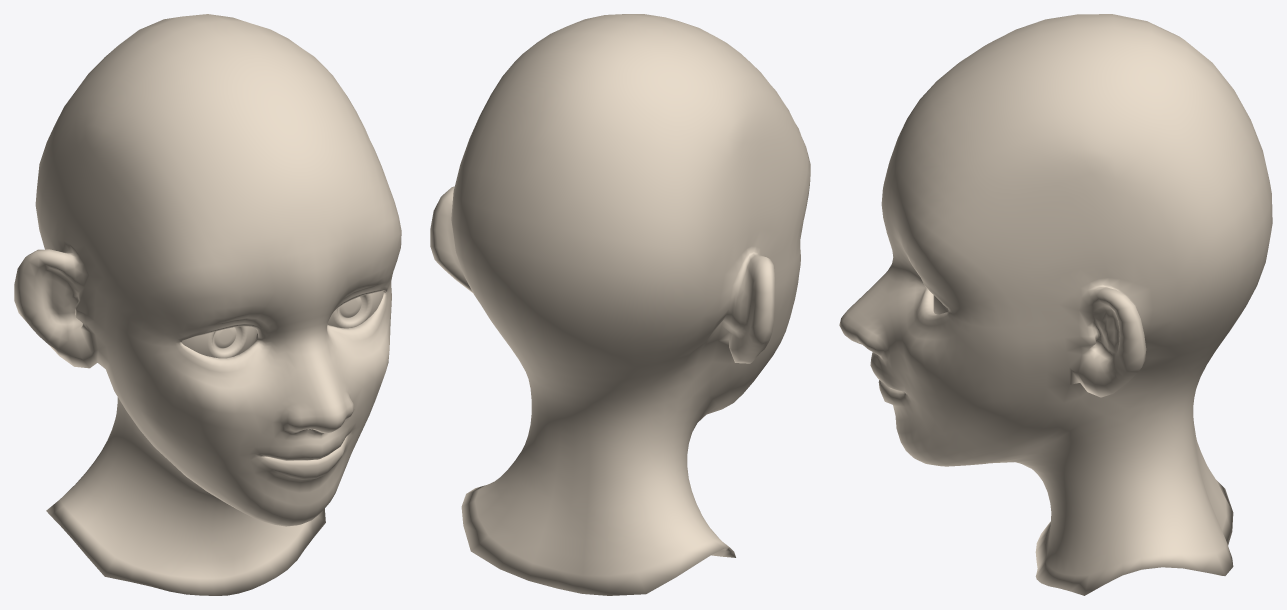
The model's file is head.glb.
3 renders of one model, left to right at view 1: azimuth 30°, elevation 25°; view 2: azimuth 150°, elevation 25°; view 3: azimuth 270°, elevation 25°, orthographic.
Parts seen in each view (by area): view 1: GEO-head_stylized; view 2: GEO-head_stylized; view 3: GEO-head_stylized.
Boxes of the visible parts, x1,y1,x2,y2 form: GEO-head_stylized: (14, 14, 401, 595); GEO-head_stylized: (430, 14, 810, 595); GEO-head_stylized: (839, 14, 1272, 595).
Bounding box in the file's own units: 0.2452 × 0.367 × 0.2662.
